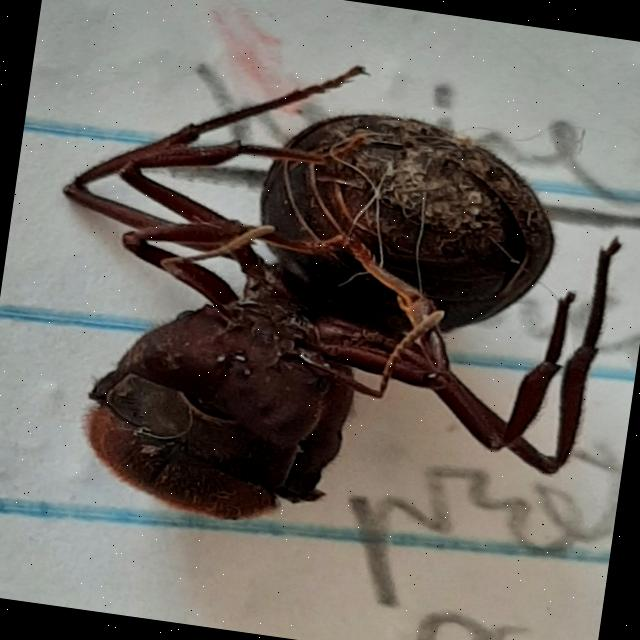Dead-Female-Dealate: (18, 24, 640, 573)
